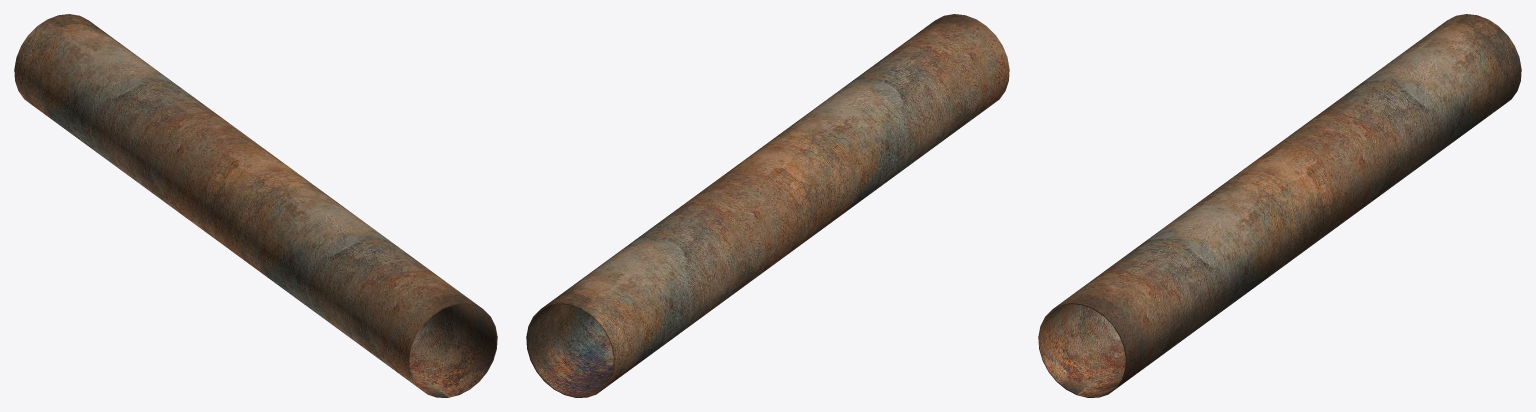
The model's file is Caño_uno.glb.
3 views of the same model, side by side, from view 1: azimuth 30°, elevation 25°; view 2: azimuth 150°, elevation 25°; view 3: azimuth 330°, elevation 25° (orthographic).
Parts seen in each view (by area): view 1: 01; view 2: 01; view 3: 01.
Part boxes in pixels (left/top/right/bottom): 01: left=14, top=14, right=497, bottom=397; 01: left=526, top=14, right=1009, bottom=397; 01: left=1038, top=14, right=1521, bottom=397.
Bounding box in the file's own units: 0.5699 × 0.5688 × 4.41.
Materials: 1 (1 with a texture image).
